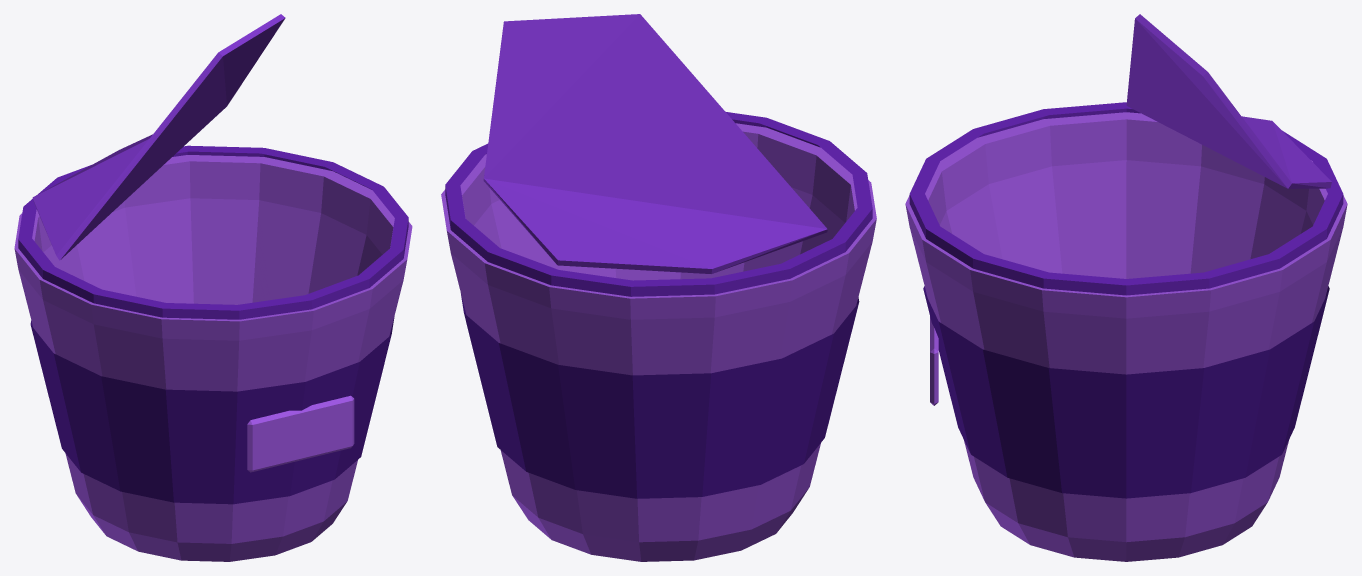
The model's file is Plastic_YogurtCup.fbx.
3 views of the same model, side by side, from view 1: azimuth 30°, elevation 25°; view 2: azimuth 150°, elevation 25°; view 3: azimuth 270°, elevation 25° (orthographic). The views are drawn at different scales.
Parts seen in each view (by area): view 1: Plastic_YogurtCup; view 2: Plastic_YogurtCup; view 3: Plastic_YogurtCup.
Part boxes in pixels (x1=…): Plastic_YogurtCup: x1=14, y1=14, x2=412, y2=561; Plastic_YogurtCup: x1=441, y1=14, x2=876, y2=561; Plastic_YogurtCup: x1=905, y1=14, x2=1347, y2=561.
Size of the model in its own units: 58.14 by 72 by 58.14.
